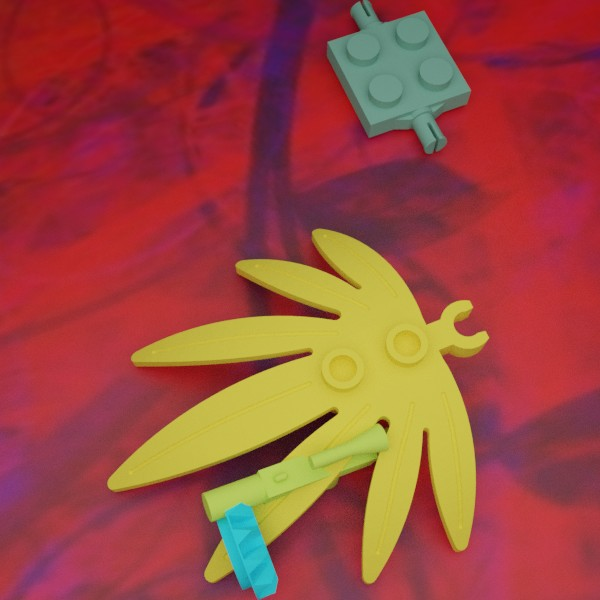lego: (107, 228, 489, 584), (326, 0, 471, 153), (201, 423, 405, 522), (213, 483, 278, 599)
